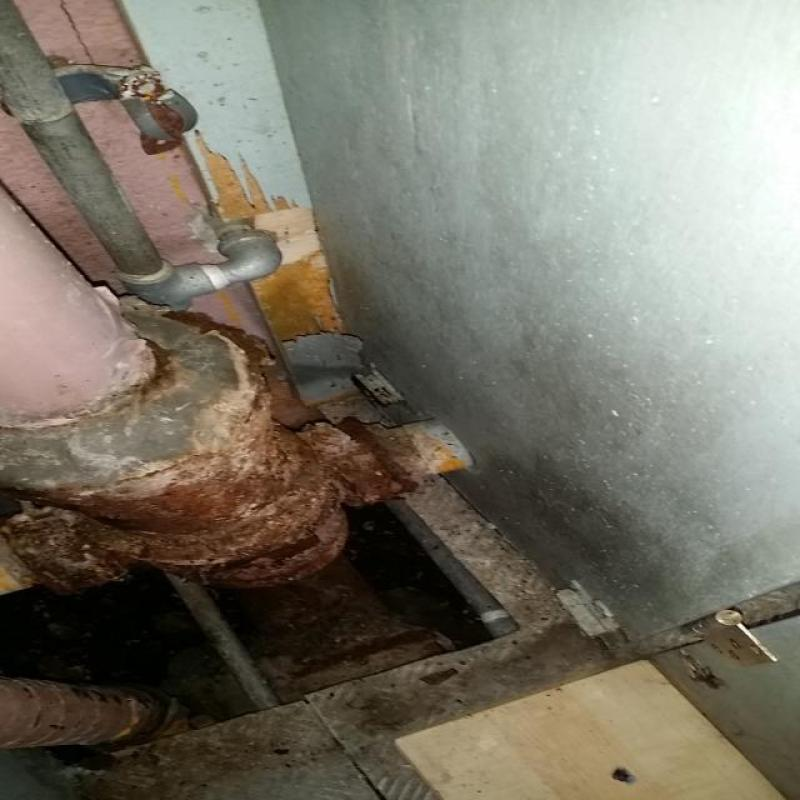corrosion: (170, 322, 368, 590)
